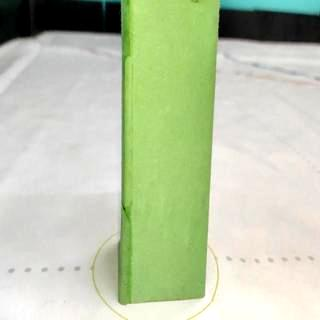greenbox: (121, 0, 217, 302)
